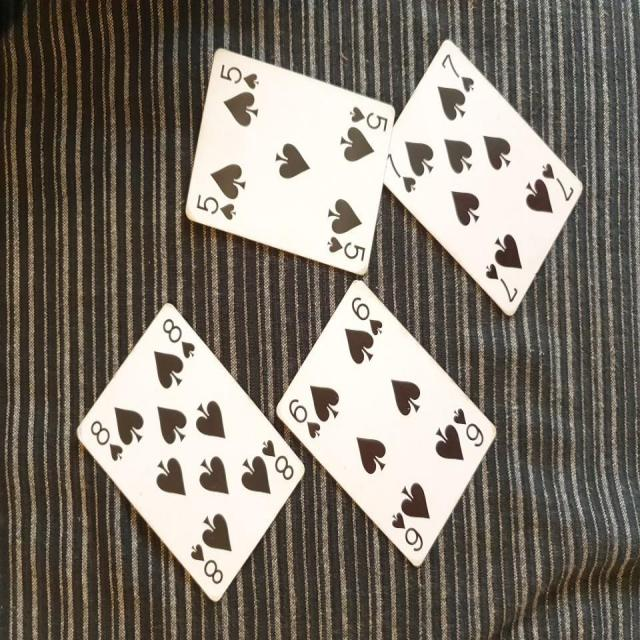5 Spades: (182, 40, 398, 283)
6 Spades: (265, 265, 507, 580)
7 Spades: (377, 35, 589, 332)
8 Spades: (66, 297, 308, 610)
